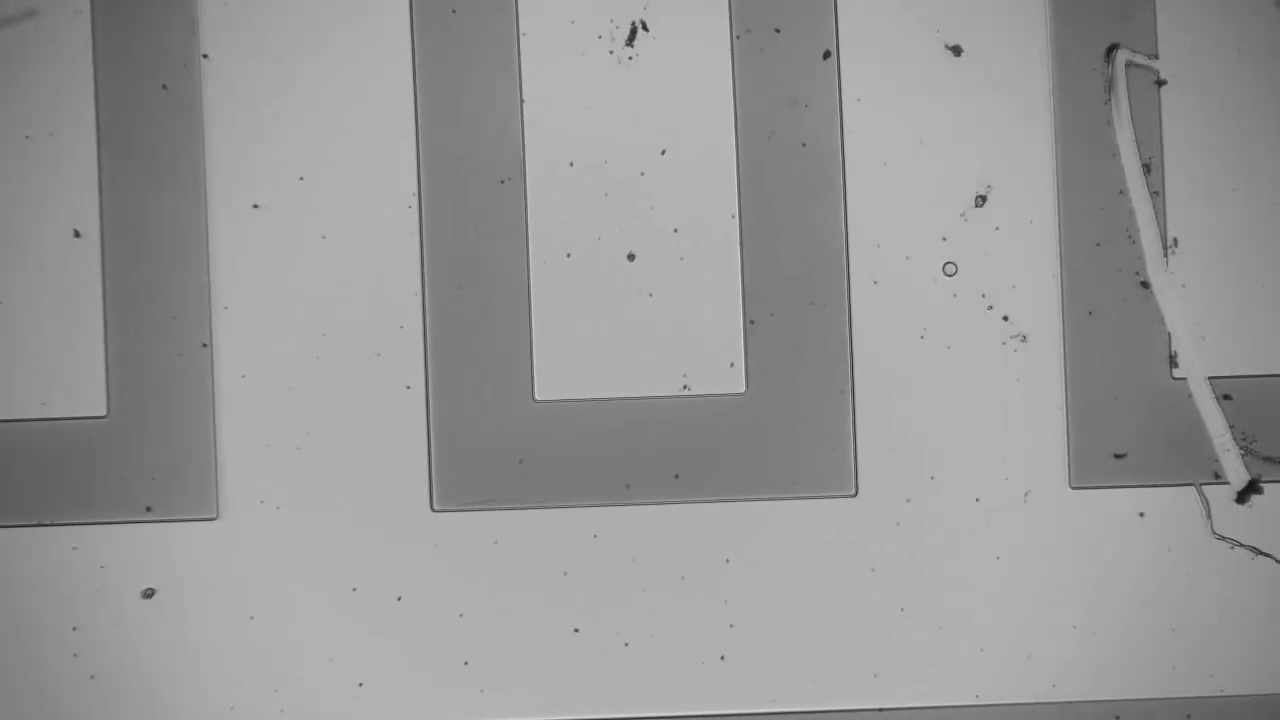Short_circuit: (1170, 328, 1273, 526)
